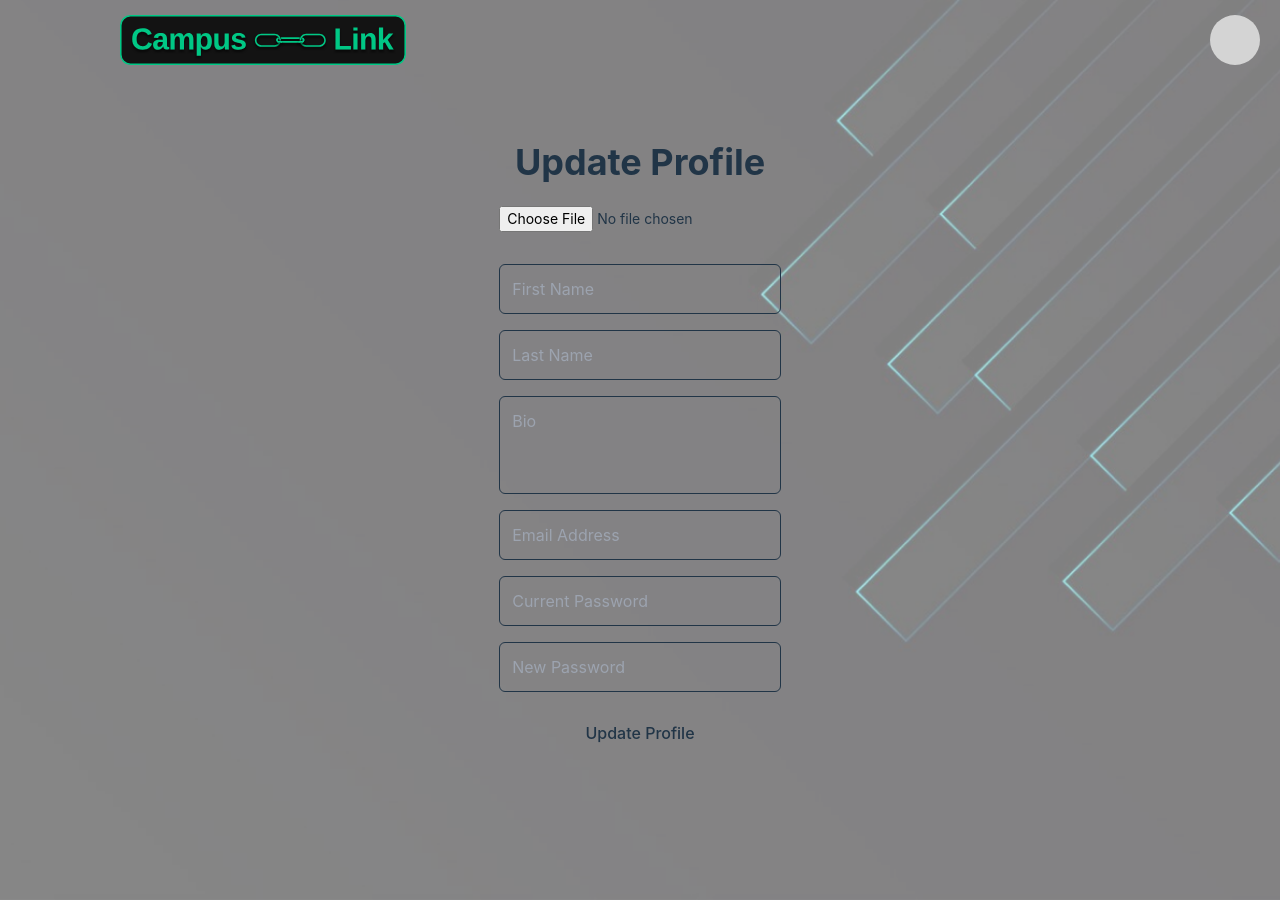
Scenario: UpdateProfile Page › displays a success message when update is successful
Click update button
Click the button "Update Profile" at (640, 733), box [499, 708, 781, 758]
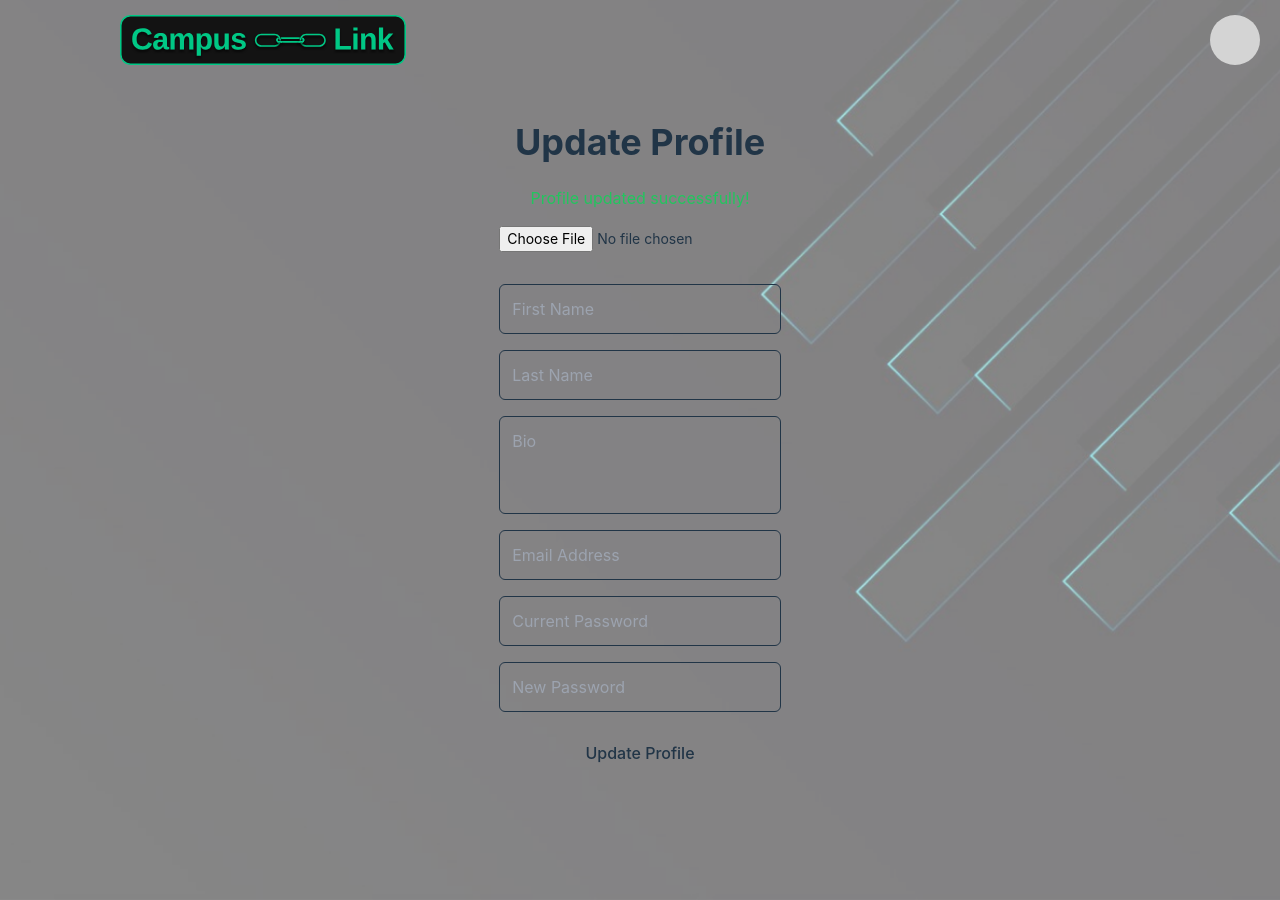
Expected: the text "Profile updated successfully!" is shown, [530, 186, 750, 210]
